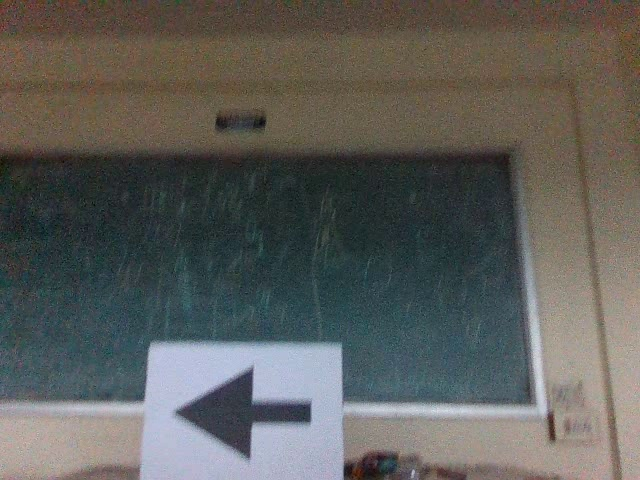Left: (165, 363, 318, 471)
